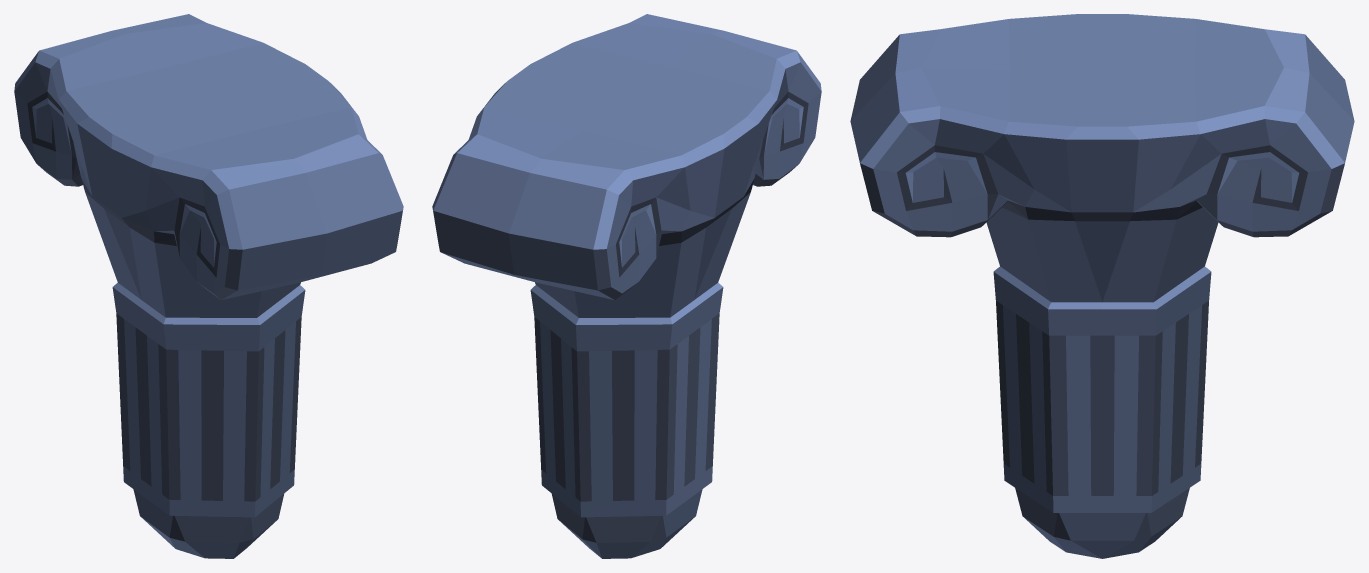
File: Prop_Pillar_top.fbx
3 renders of one model, left to right at view 1: azimuth 30°, elevation 25°; view 2: azimuth 150°, elevation 25°; view 3: azimuth 270°, elevation 25°, orthographic. The views are drawn at different scales.
Visible parts, largest first — view 1: MODEL_Shop_Pillar_00; view 2: MODEL_Shop_Pillar_00; view 3: MODEL_Shop_Pillar_00.
Boxes of the visible parts, <box> form: MODEL_Shop_Pillar_00: <box>14,14,403,558</box>; MODEL_Shop_Pillar_00: <box>432,14,821,558</box>; MODEL_Shop_Pillar_00: <box>850,14,1354,558</box>.
Bounding box in the file's own units: 246 × 466 × 439.
